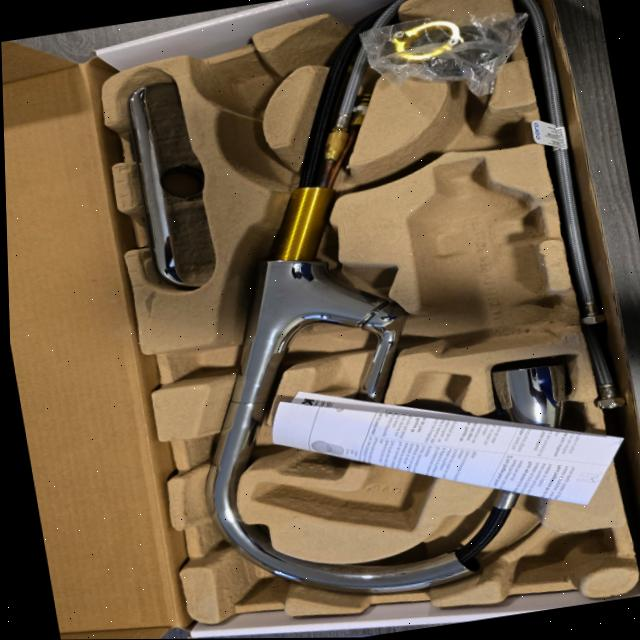1o: (202, 0, 567, 596)
2m: (251, 373, 467, 528)
3m: (405, 155, 553, 356)
4: (131, 82, 217, 287)
5m: (202, 61, 281, 113)
6: (359, 11, 528, 99)
7m: (392, 109, 536, 171)
8: (268, 391, 624, 505)
